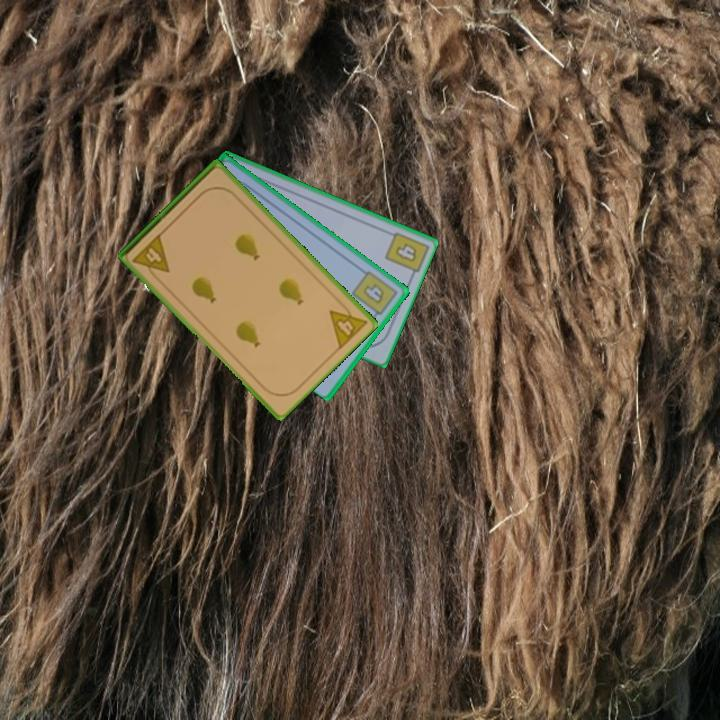4b: (348, 267, 400, 322), (392, 239, 420, 265)
4p: (326, 296, 370, 352), (129, 230, 173, 283)
